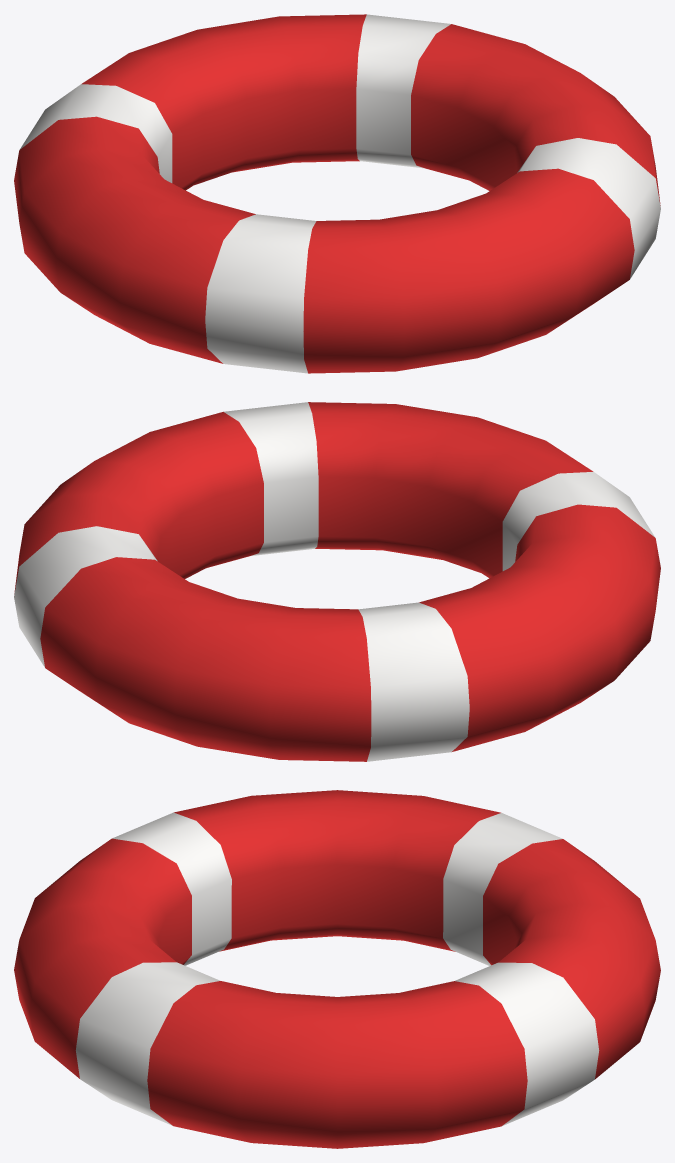
The model's file is Isl_14_Lifebuoy.fbx.
The picture shows the model from 3 angles, top to bottom: view 1: azimuth 30°, elevation 25°; view 2: azimuth 150°, elevation 25°; view 3: azimuth 270°, elevation 25°; orthographic projection.
Parts seen in each view (by area): view 1: Isl_14_Lifebuoy; view 2: Isl_14_Lifebuoy; view 3: Isl_14_Lifebuoy.
Part boxes in pixels (bbox=[...]): Isl_14_Lifebuoy: bbox=[14, 14, 660, 373]; Isl_14_Lifebuoy: bbox=[14, 402, 660, 761]; Isl_14_Lifebuoy: bbox=[14, 790, 660, 1148].
Bounding box in the file's own units: 194 × 194 × 42.41.
Materials: 1 (1 with a texture image).
